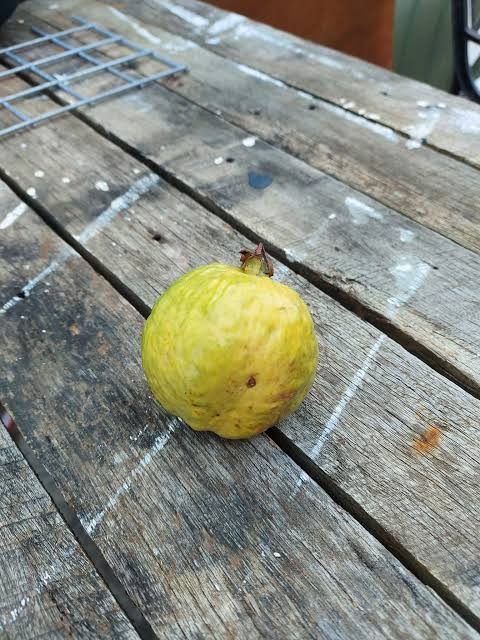guava: (30, 35, 431, 501)
